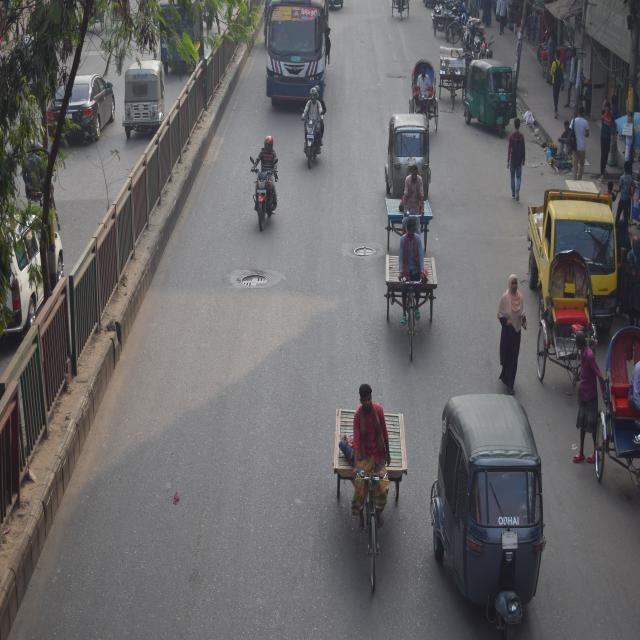bus: (246, 0, 339, 107)
motorbike: (228, 153, 290, 229), (301, 102, 334, 170)
